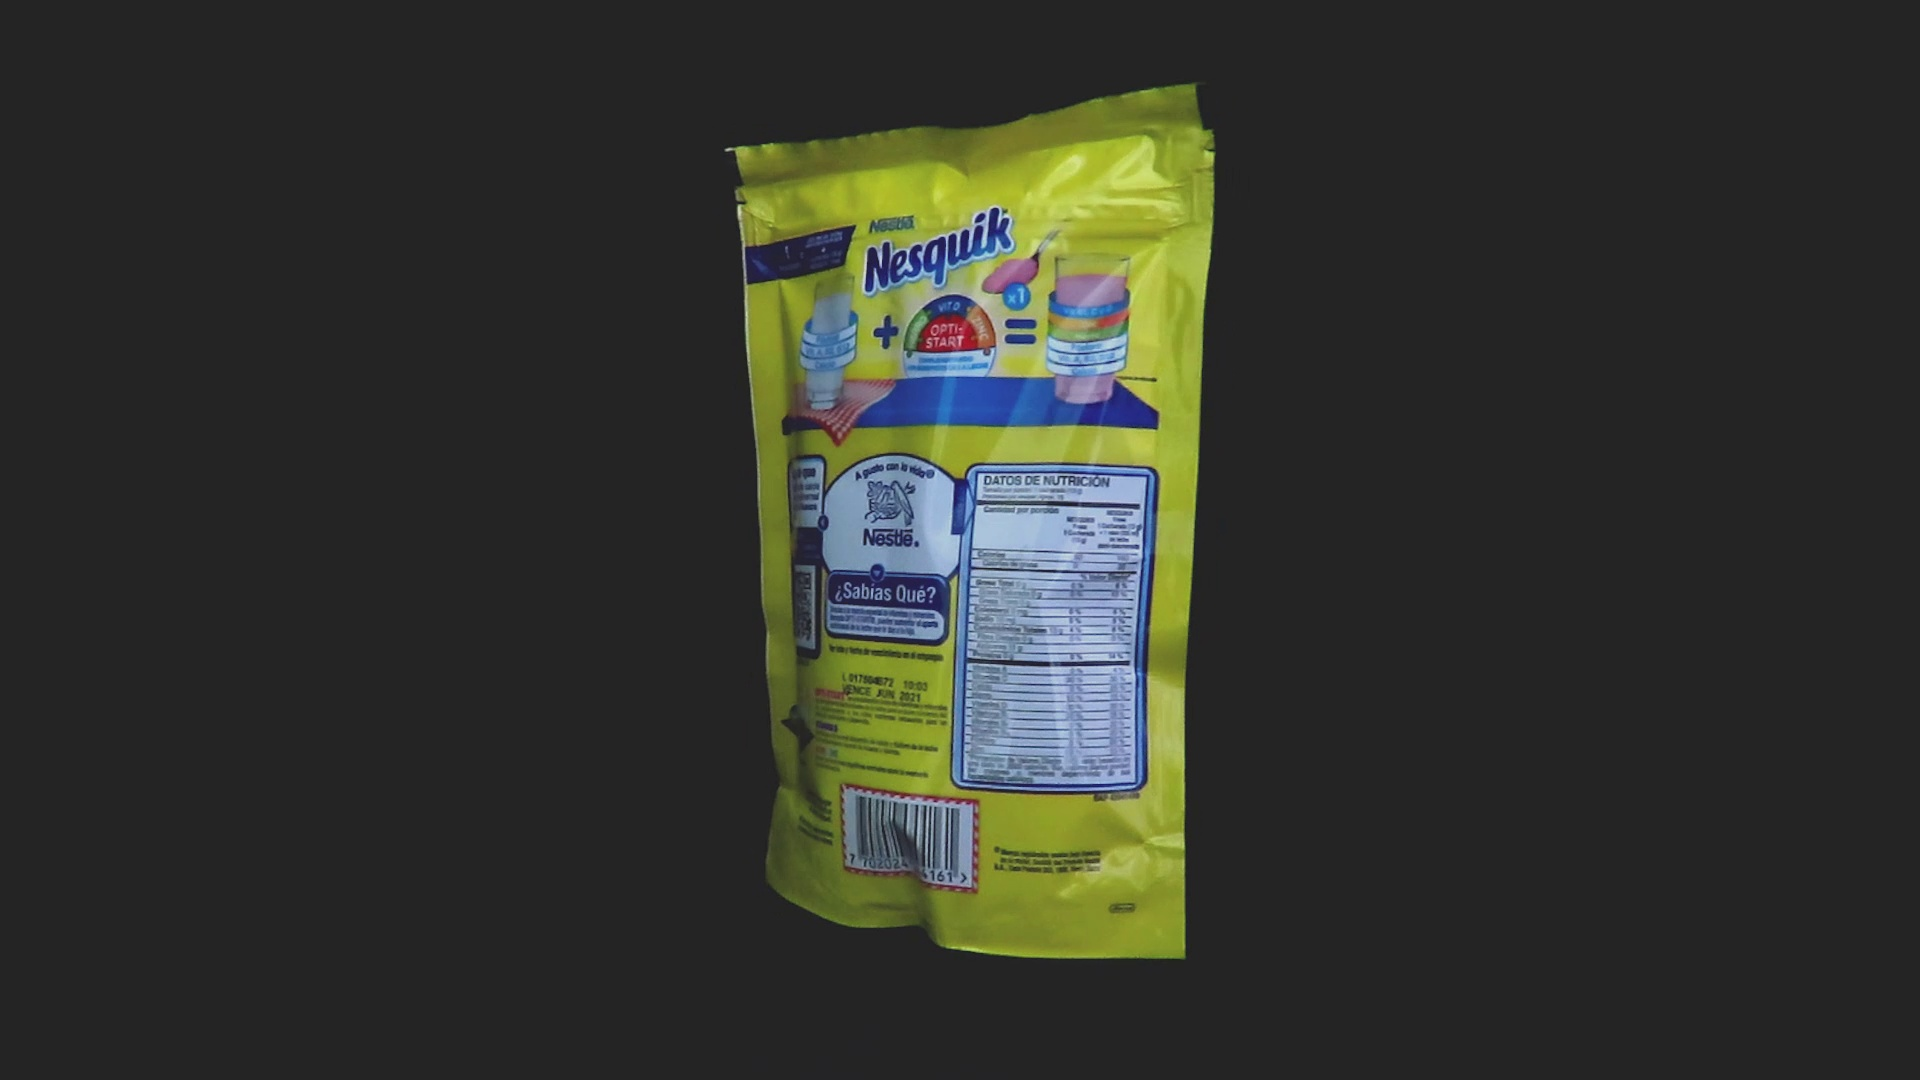COL0170305DYP20000: (720, 76, 1221, 967)
